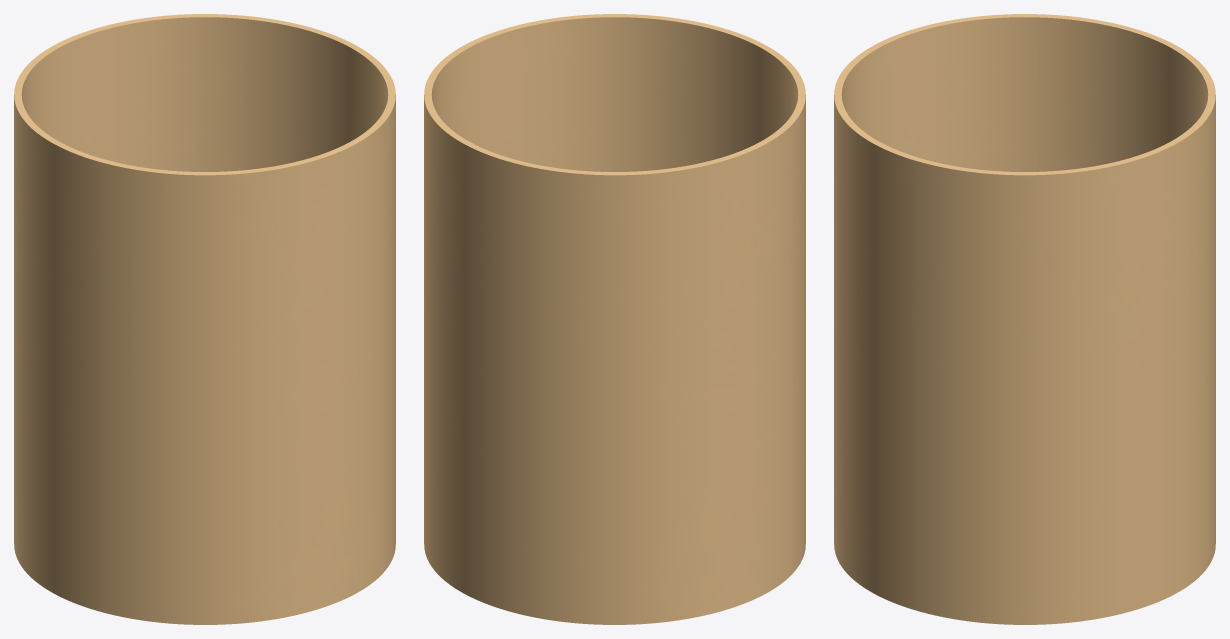
Rendered from DomesFoot_SHINYBRASS.glb.
The picture shows the model from 3 angles, left to right: view 1: azimuth 30°, elevation 25°; view 2: azimuth 150°, elevation 25°; view 3: azimuth 270°, elevation 25°; orthographic projection.
Visible parts, largest first — view 1: Object002; view 2: Object002; view 3: Object002.
Part boxes in pixels (x1,y1,x2,y2): Object002: (14,14,395,624); Object002: (424,14,805,624); Object002: (834,14,1215,624).
Bounding box in the file's own units: 0.1 × 0.13 × 0.1.
1 material, 1 textured.
